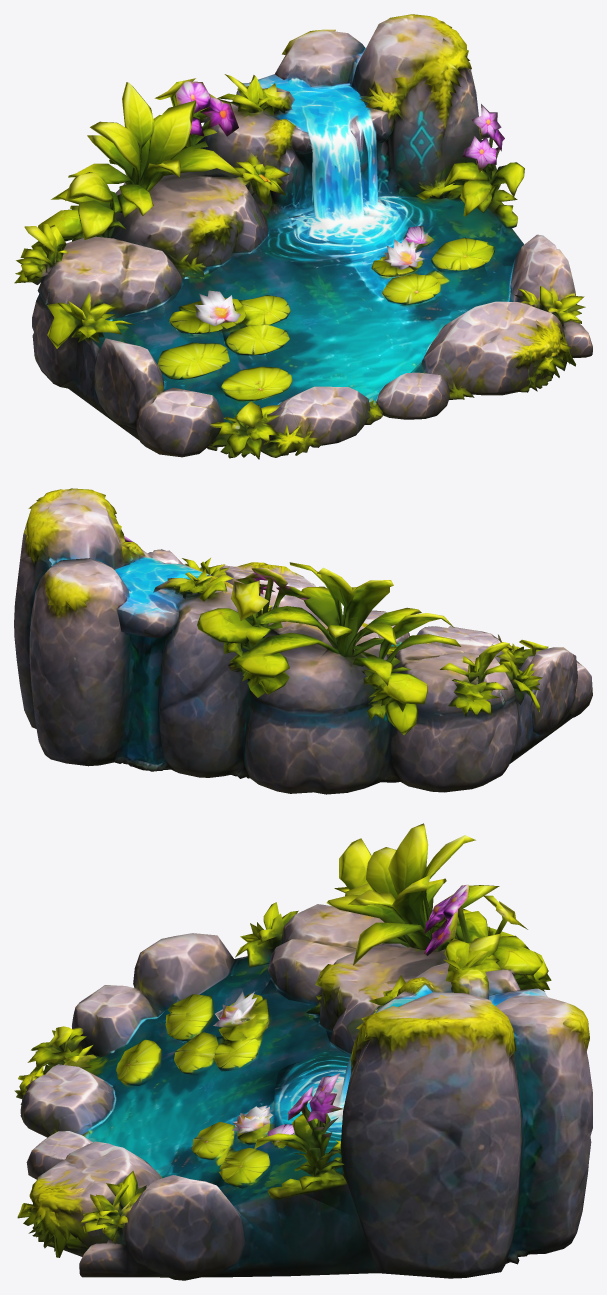
Rendered from ecos_remanso.glb.
3 renders of one model, top to bottom at view 1: azimuth 30°, elevation 25°; view 2: azimuth 150°, elevation 25°; view 3: azimuth 270°, elevation 25°, orthographic. The views are drawn at different scales.
Parts seen in each view (by area): view 1: tripo_part_3, tripo_part_1, tripo_part_4, tripo_part_0, tripo_part_11, tripo_part_13, tripo_part_5, tripo_part_14, tripo_part_9, tripo_part_21, tripo_part_20, tripo_part_6 (+9 smaller); view 2: tripo_part_1, tripo_part_0, tripo_part_3, tripo_part_11, tripo_part_12, tripo_part_4, tripo_part_14, tripo_part_8, tripo_part_9, tripo_part_6; view 3: tripo_part_1, tripo_part_3, tripo_part_4, tripo_part_0, tripo_part_11, tripo_part_5, tripo_part_14, tripo_part_13, tripo_part_8, tripo_part_7, tripo_part_20, tripo_part_6 (+9 smaller).
Boxes of the visible parts, x1,y1,x2,y2 form: tripo_part_3: (60,62,523,440); tripo_part_1: (32,14,481,386); tripo_part_4: (376,234,592,419); tripo_part_0: (38,78,244,241); tripo_part_11: (94,338,223,457); tripo_part_13: (169,290,290,355); tripo_part_5: (444,104,524,228); tripo_part_14: (267,386,371,447); tripo_part_9: (47,292,134,348); tripo_part_21: (431,237,495,287); tripo_part_20: (157,342,229,379); tripo_part_6: (210,401,280,459); tripo_part_1: (14,488,518,794); tripo_part_0: (197,562,460,735); tripo_part_3: (115,549,572,763); tripo_part_11: (519,647,592,735); tripo_part_12: (440,642,509,716); tripo_part_4: (148,549,409,644); tripo_part_14: (417,626,503,661); tripo_part_8: (153,569,233,601); tripo_part_9: (498,658,542,711); tripo_part_6: (492,639,548,664); tripo_part_1: (260,887,592,1278); tripo_part_3: (88,956,547,1277); tripo_part_4: (26,1131,245,1280); tripo_part_0: (326,823,551,991); tripo_part_11: (72,933,233,1056); tripo_part_5: (254,1073,359,1218); tripo_part_14: (20,1064,115,1137); tripo_part_13: (174,991,268,1075); tripo_part_8: (443,933,501,999); tripo_part_7: (17,1175,85,1257); tripo_part_20: (165,994,213,1041); tripo_part_6: (27,1026,96,1074).
Bounding box in the file's own units: 0.9798 × 0.4543 × 0.8784.
28 materials, 28 textured.
